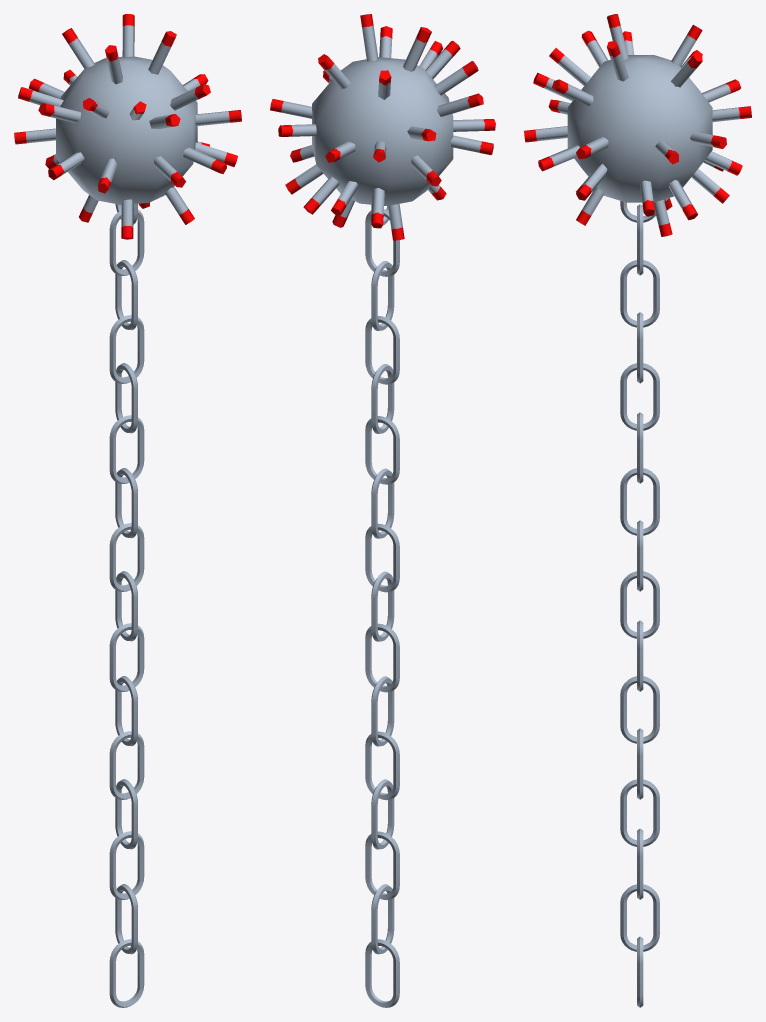
File: NavalMineA.FBX
3 views of the same model, side by side, from view 1: azimuth 30°, elevation 25°; view 2: azimuth 150°, elevation 25°; view 3: azimuth 270°, elevation 25° (orthographic).
Parts seen in each view (by area): view 1: Mine1, Chain; view 2: Mine1, Chain; view 3: Mine1, Chain.
Part boxes in pixels (x1,y1,x2,y2): Mine1: [14, 14, 241, 239]; Chain: [109, 203, 144, 1007]; Mine1: [270, 14, 495, 240]; Chain: [365, 204, 399, 1007]; Mine1: [524, 14, 751, 236]; Chain: [620, 201, 659, 1007].
Bounding box in the file's own units: 402 × 1981 × 418.
Materials: 1 (1 with a texture image).
